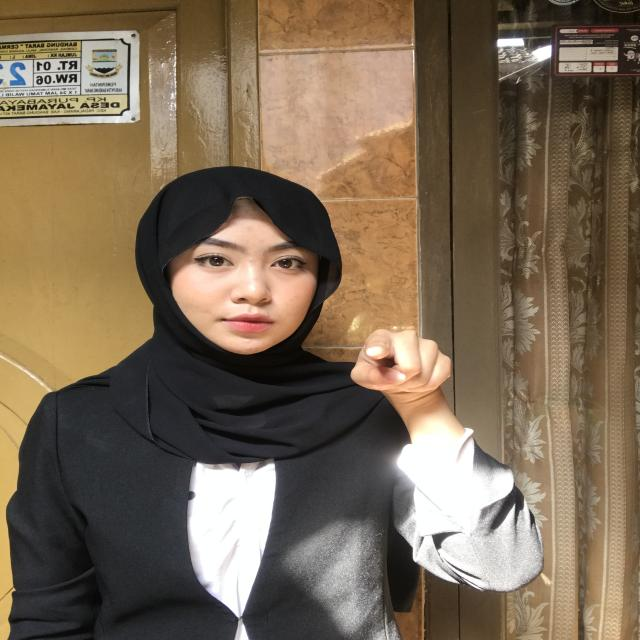kamu: (325, 312, 469, 408)
